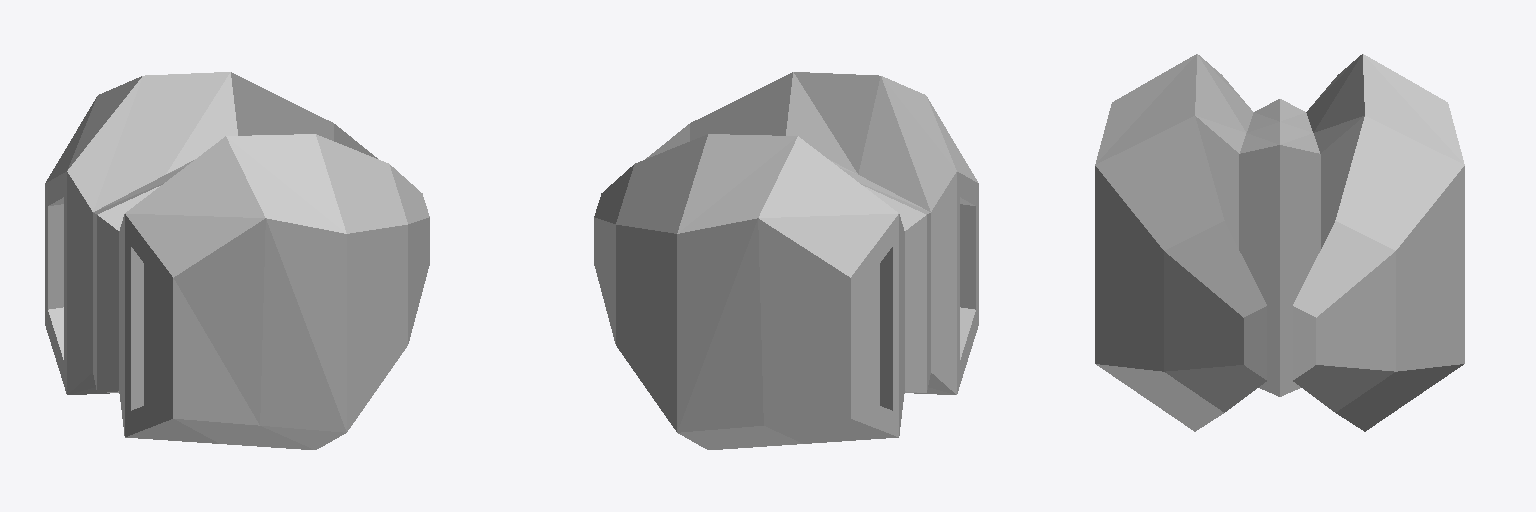
File: MShipScaled.obj
3 views of the same model, side by side, from view 1: azimuth 30°, elevation 25°; view 2: azimuth 150°, elevation 25°; view 3: azimuth 270°, elevation 25° (orthographic).
Visible parts, largest first — view 1: Cube_Cube.001; view 2: Cube_Cube.001; view 3: Cube_Cube.001.
Boxes of the visible parts, <box> form: Cube_Cube.001: <box>45,72,429,449</box>; Cube_Cube.001: <box>594,72,978,449</box>; Cube_Cube.001: <box>1095,54,1464,431</box>.
Size of the model in its own units: 1 by 1 by 1.